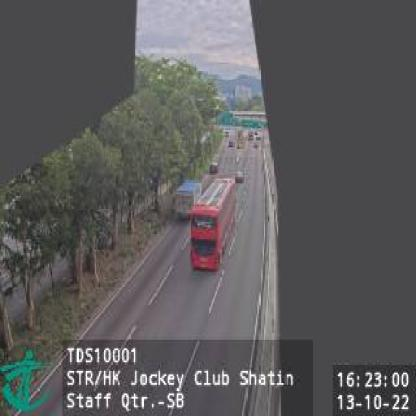Bus: (189, 175, 237, 273)
Car: (235, 170, 246, 184), (208, 162, 219, 174)
Truck: (174, 179, 202, 219)
